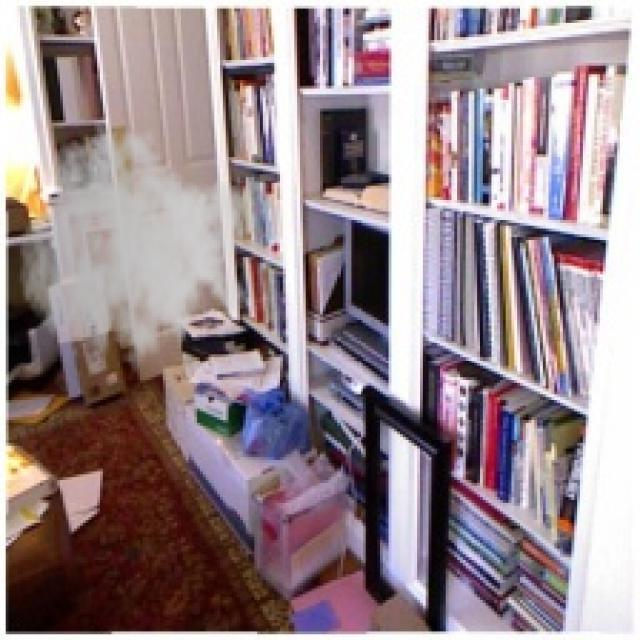Smoke: (17, 117, 260, 389)
